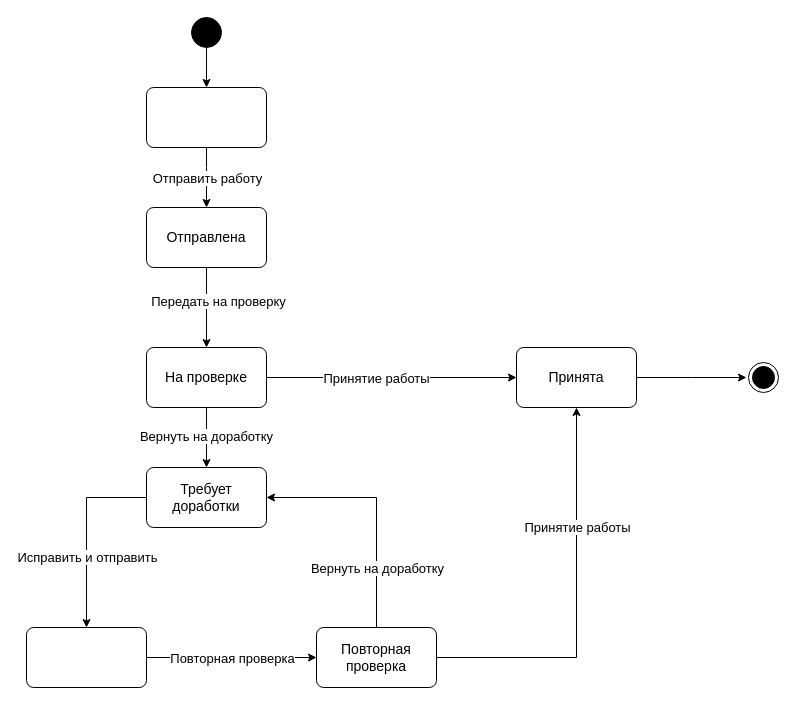
This 796x705 diagram has some shape labels left out. The centre of each missing label's shape, as x and y in pixels:
Повторно отправлена: the point at 86,657
Создана: the point at 206,117
